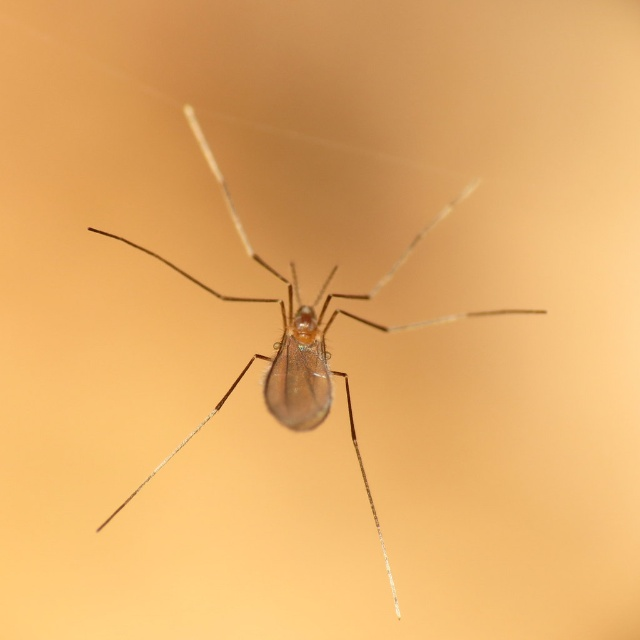Spider: (87, 105, 547, 620)
